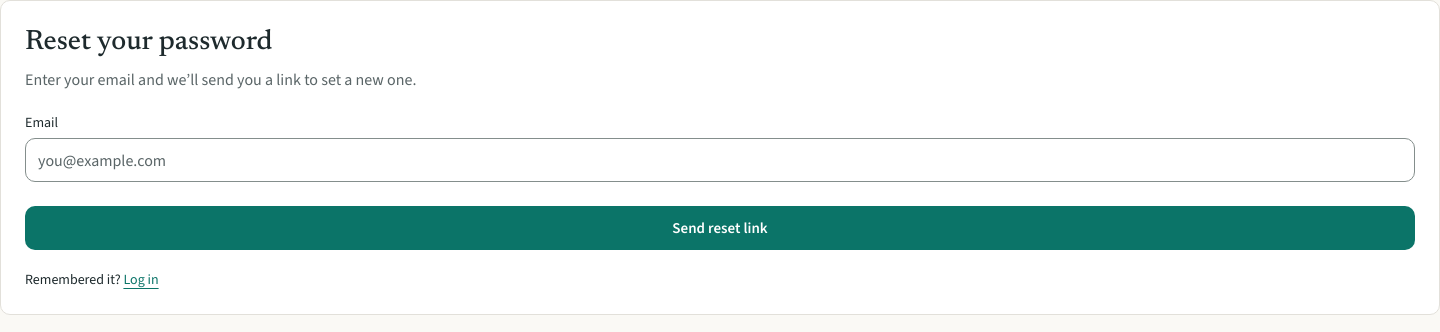
Scenario: ForgotPasswordForm › success asks the user to check their inbox
Step 1. Type "ann@example.com" into the field labelled "Email" → (720, 160), box [25,138,1415,182]
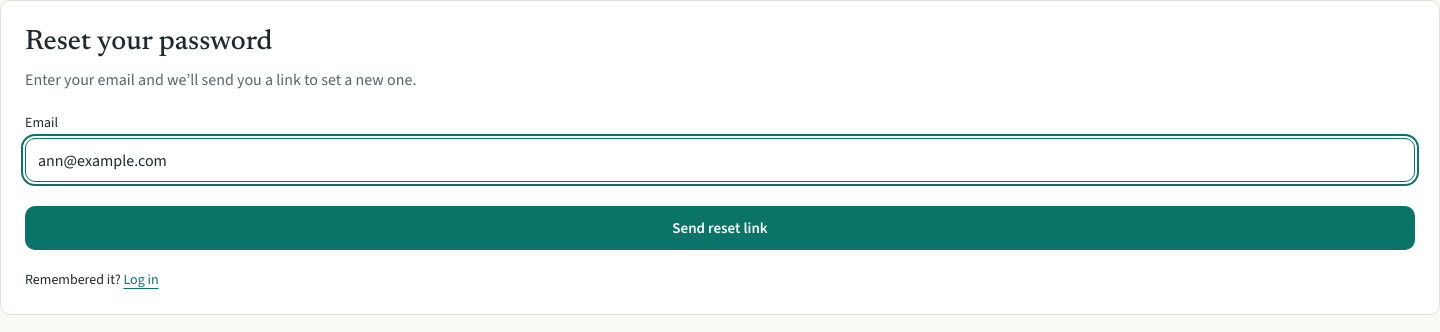
Step 2. Click the button "Send reset link" → (720, 228), box [25,206,1415,250]
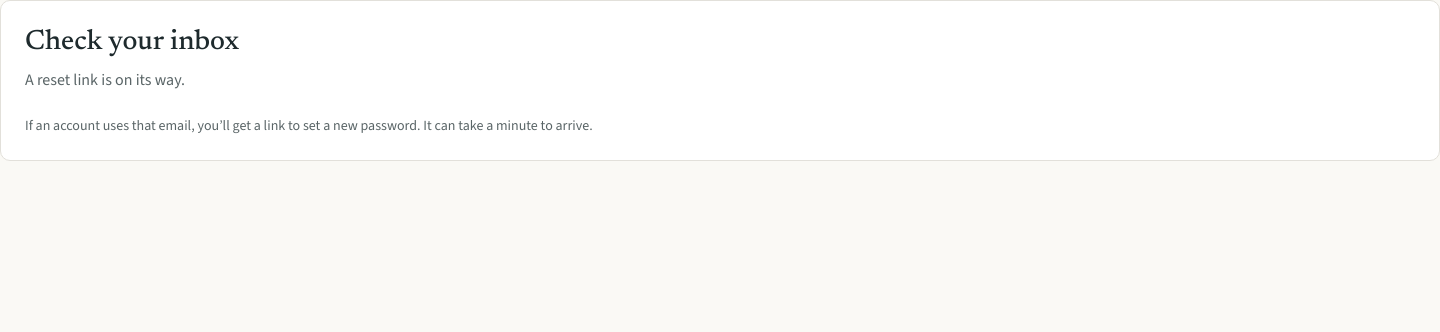
Now the heading "Check your inbox" is shown, box [25,28,239,56]
